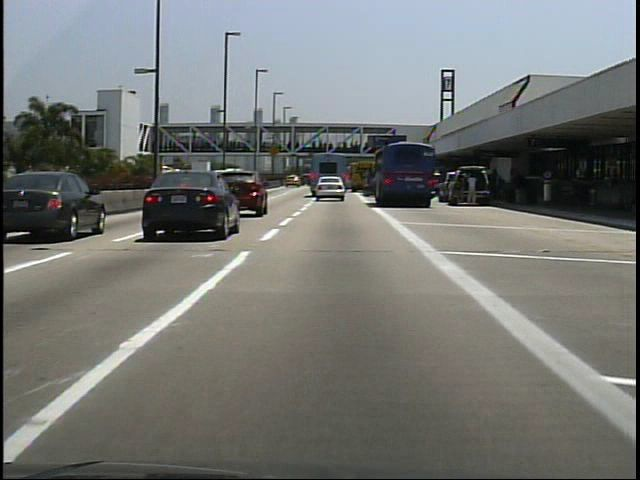person: (512, 170, 528, 211), (466, 171, 480, 209)
